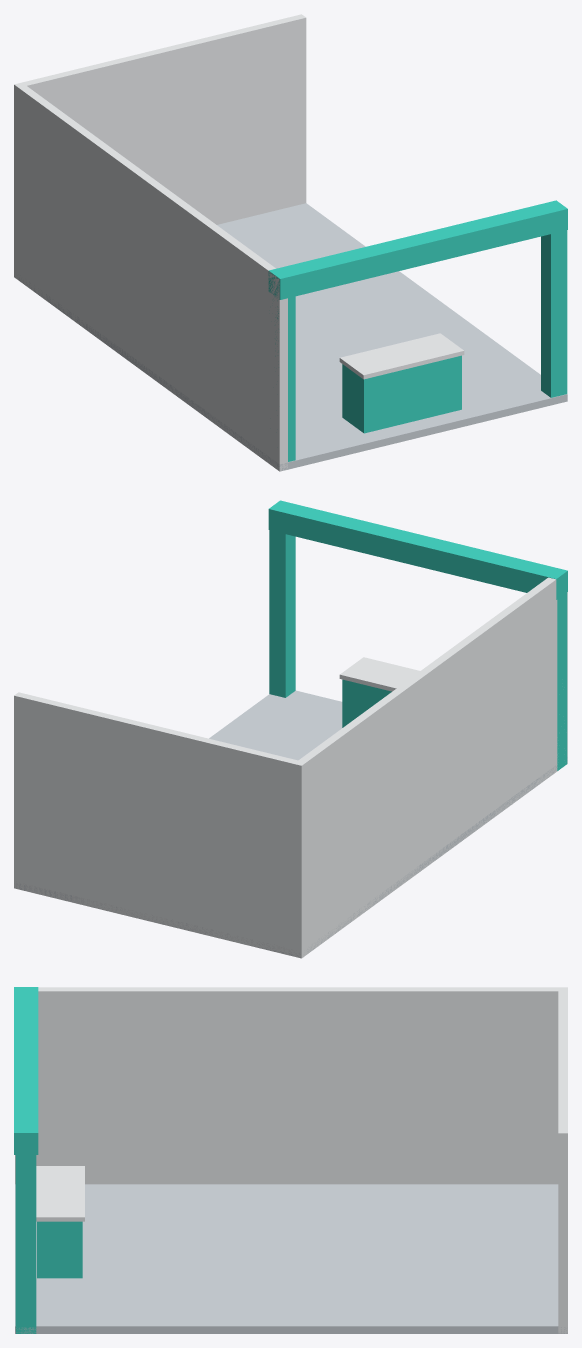
The picture shows the model from 3 angles, top to bottom: view 1: azimuth 30°, elevation 25°; view 2: azimuth 150°, elevation 25°; view 3: azimuth 270°, elevation 25°; orthographic projection. The views are drawn at different scales.
Parts seen in each view (by area): view 1: Exhibition Booth Concept; view 2: Exhibition Booth Concept; view 3: Exhibition Booth Concept.
Boxes of the visible parts, x1,y1,x2,y2 form: Exhibition Booth Concept: [14, 14, 567, 471]; Exhibition Booth Concept: [14, 500, 567, 958]; Exhibition Booth Concept: [14, 987, 567, 1333].
Bounding box in the file's own units: 5 × 3.2 × 8.01.
